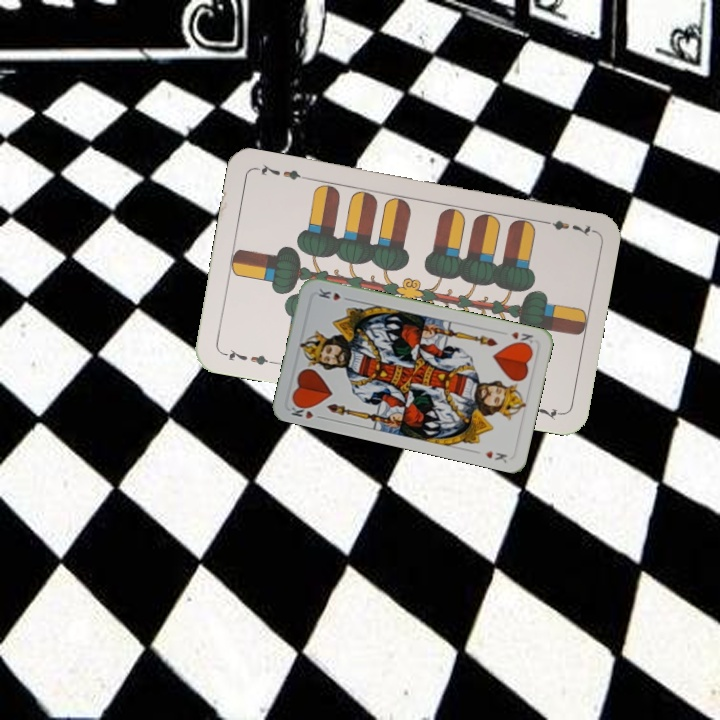E7: (218, 345, 277, 368), (537, 216, 596, 239)
HK: (286, 399, 326, 422), (507, 327, 536, 349)
